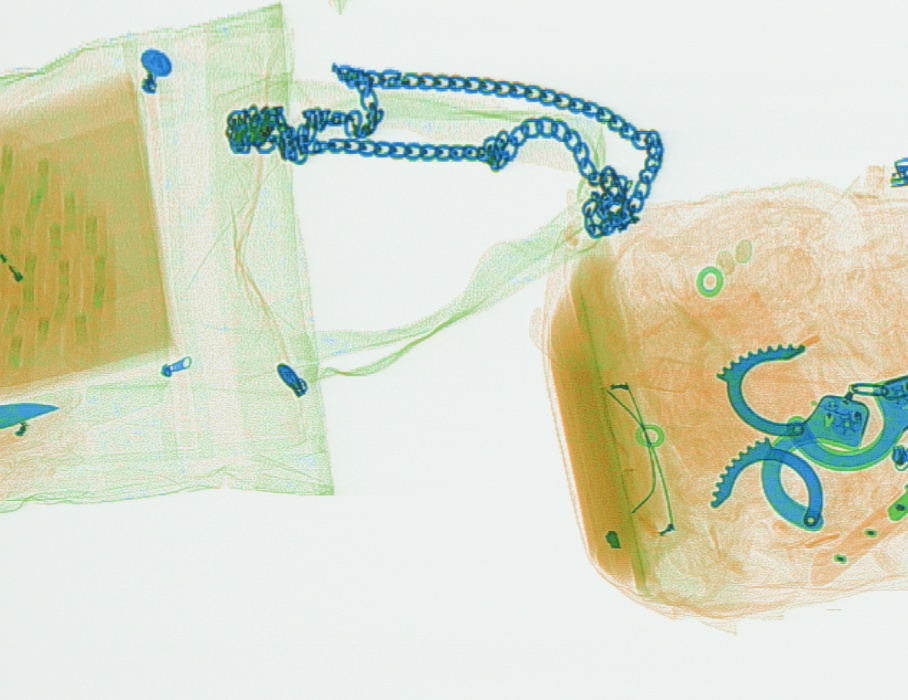firecrackers: (1, 125, 115, 378)
handcuffs: (701, 341, 906, 536)
knife: (808, 478, 906, 587), (0, 400, 60, 429)
lighter: (1, 241, 56, 331)
